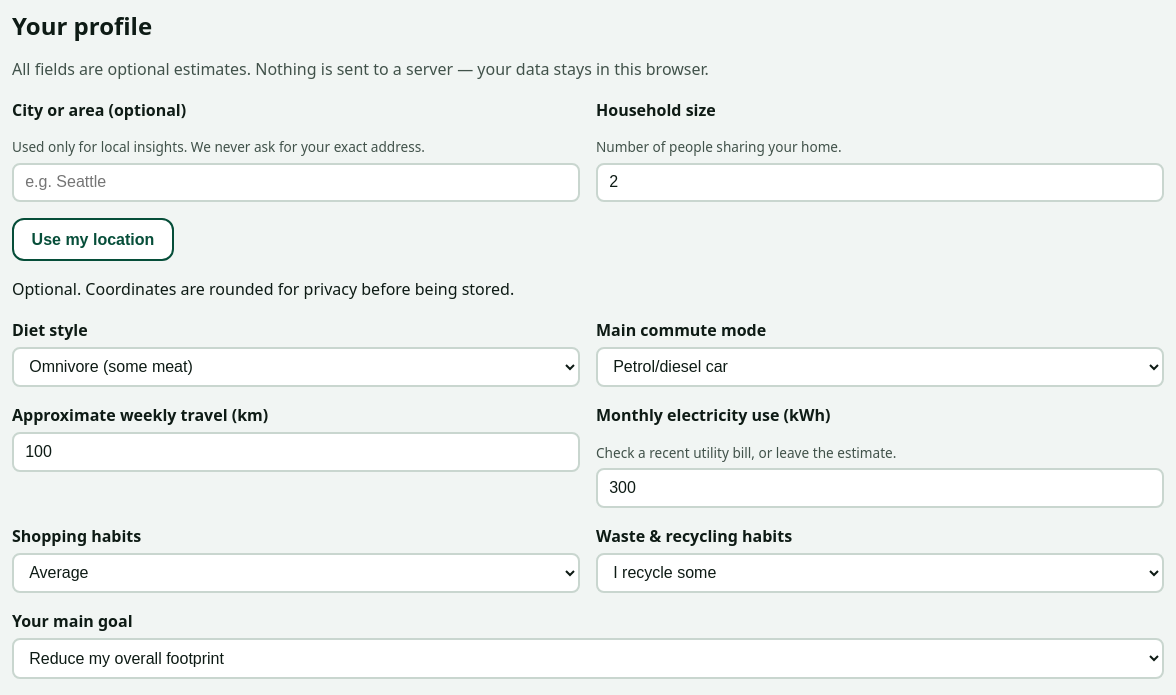
Test: ProfileForm › shows a locating state while a position is pending
Step 1. Click the button "Use my location" → coordinates (93, 240), box [12, 218, 174, 261]
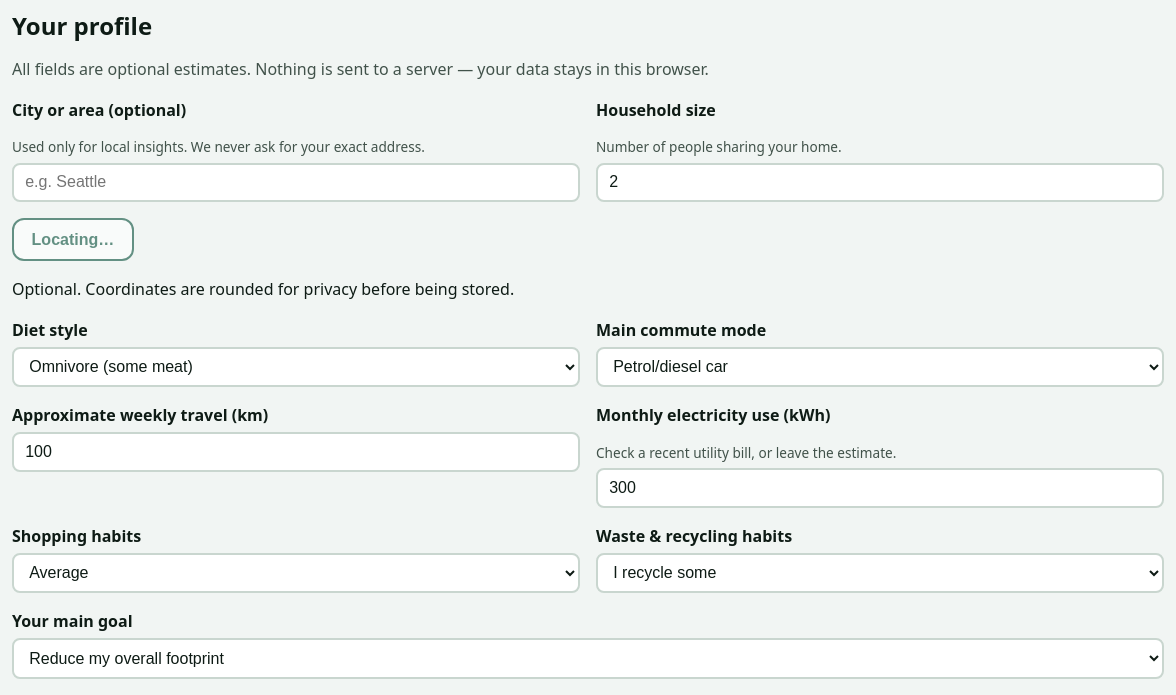
Expected: the button "Locating…" is disabled, [12, 218, 134, 261]
